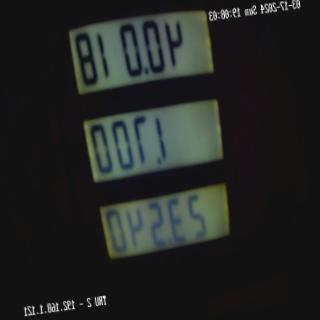screen: (57, 0, 246, 298)
